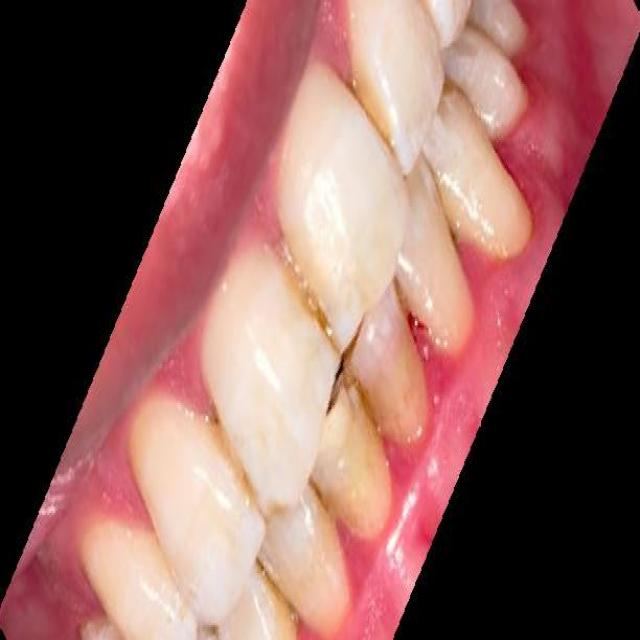calculus: (312, 402, 391, 540), (368, 334, 439, 451)
